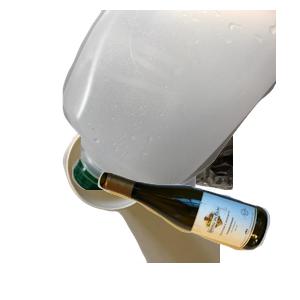glass: (95, 168, 300, 300)
metal: (60, 10, 300, 190)
plastic: (60, 10, 300, 190)
trash: (60, 120, 300, 300)
